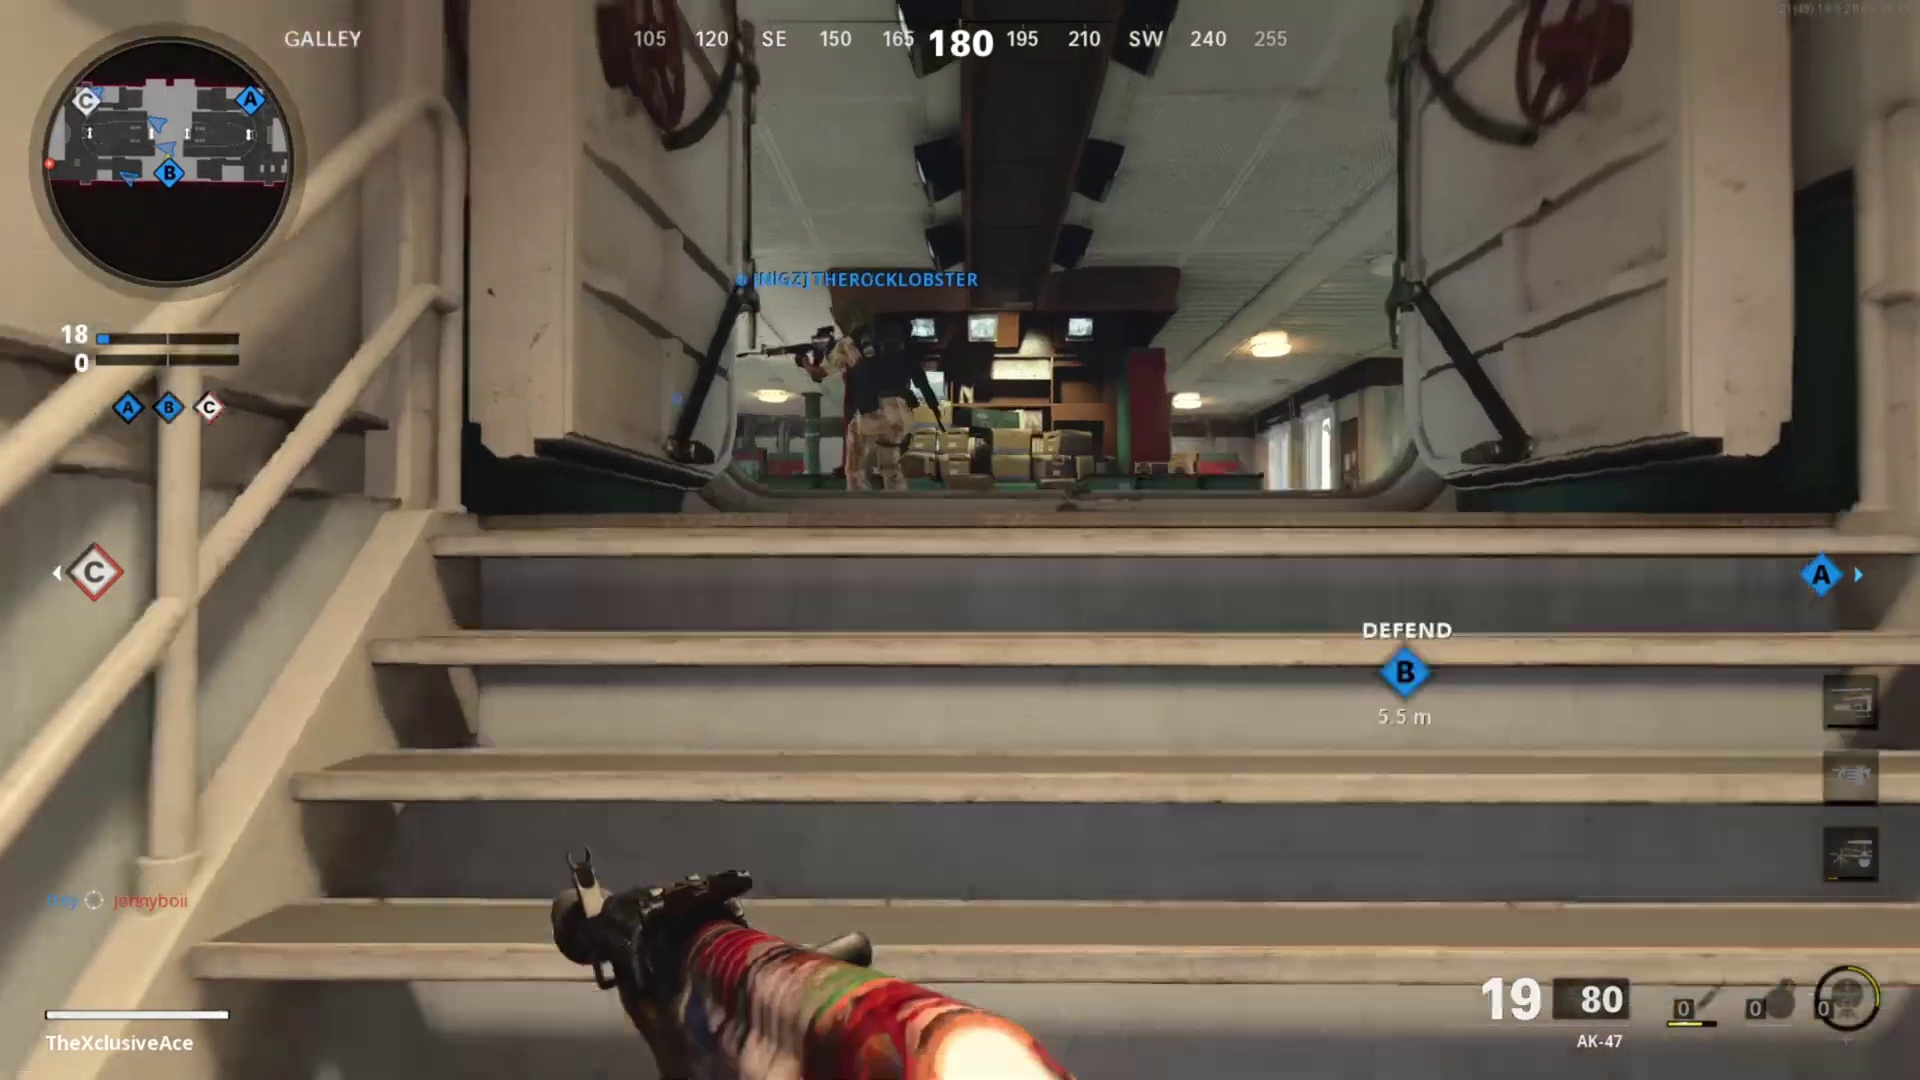person: (833, 332, 937, 488)
